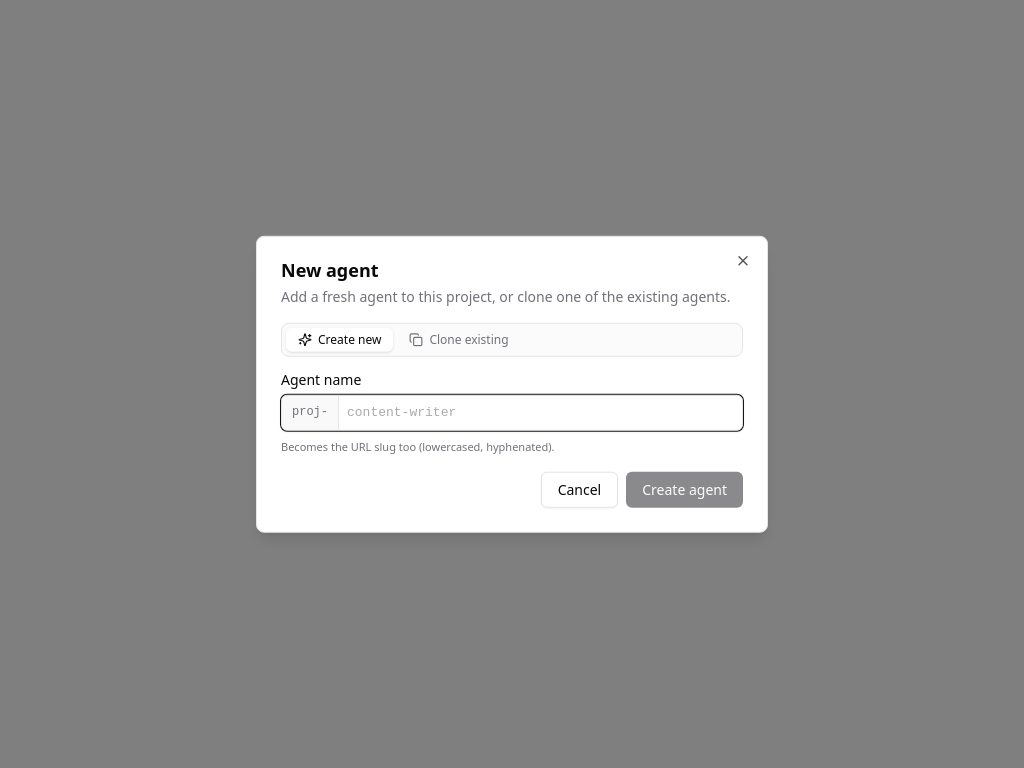
Test: CreateAgentDialog — clone mode › renders the error message when the catalog fails to load
Click the button "Clone existing" at (459, 340), box [397,328,521,352]
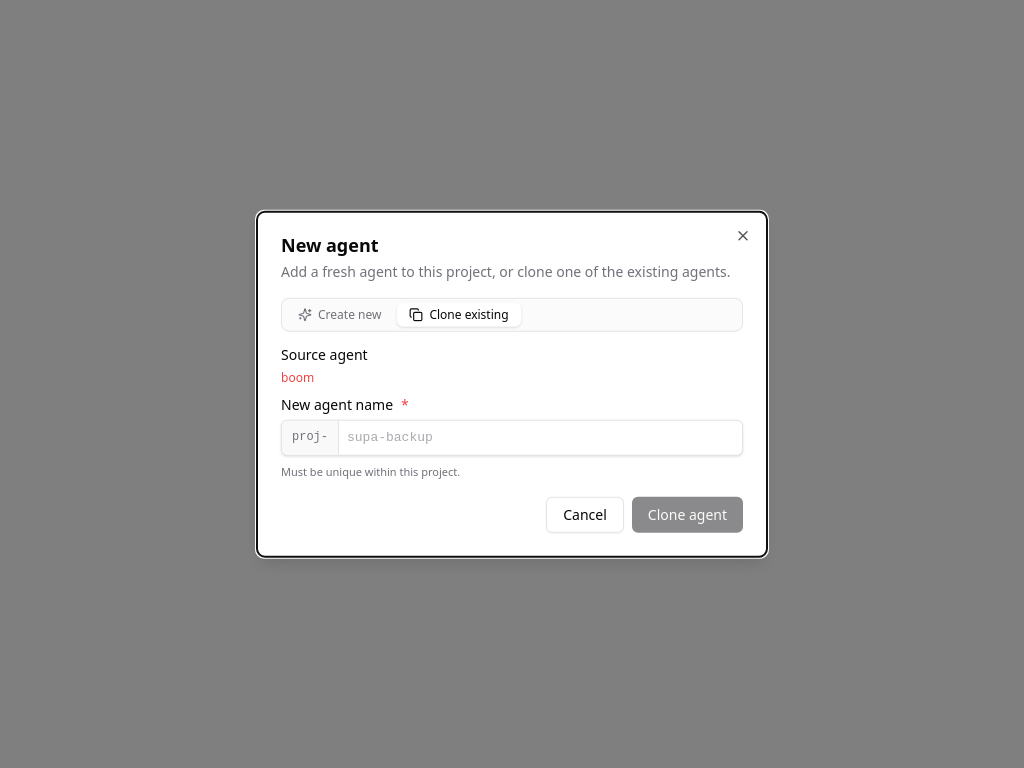
Expected: the text "boom" is shown, [281,369,314,386]
